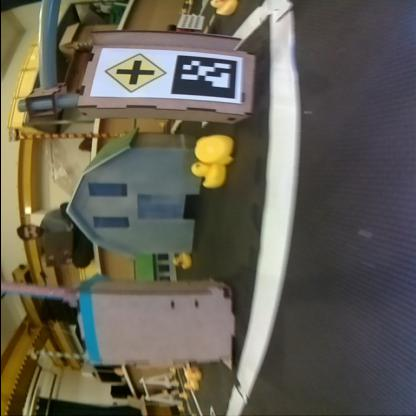Duckie: (192, 134, 232, 162), (188, 162, 224, 188), (209, 0, 236, 15), (170, 252, 190, 269), (184, 368, 200, 379), (183, 381, 197, 390)
Intersection sign: (102, 52, 165, 92)
QR code: (170, 54, 238, 98)
